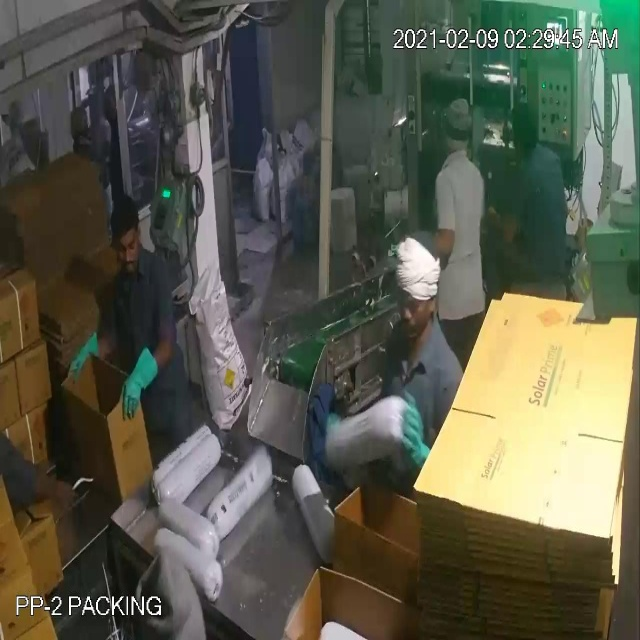Guantes: (116, 344, 158, 415), (398, 391, 431, 476), (62, 329, 105, 390)
Sin_guantes: (17, 433, 86, 537), (416, 227, 461, 260)
